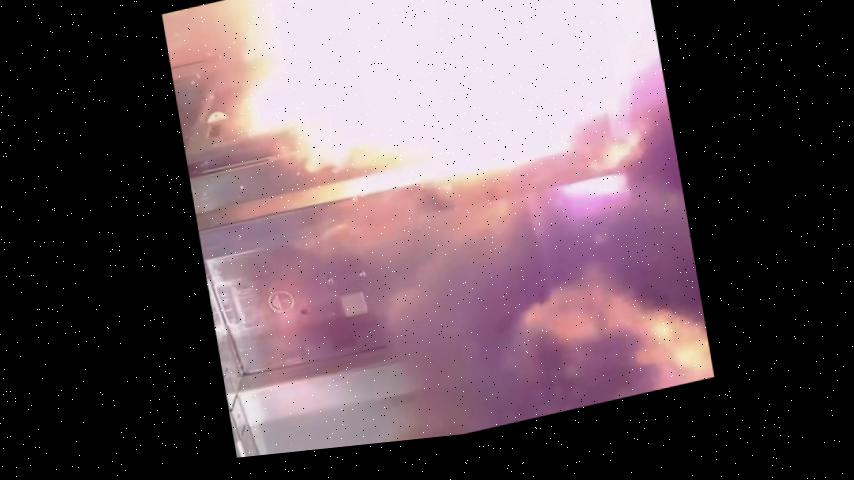fire: (211, 1, 740, 388)
